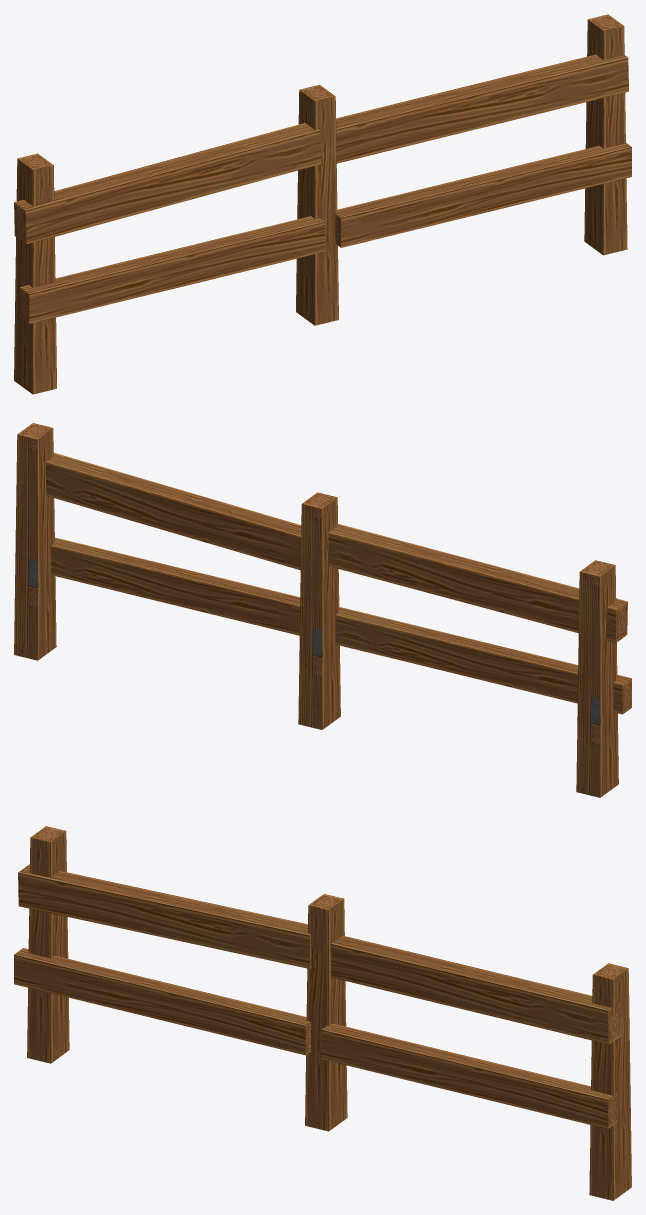
3 views of the same model, one above another, from view 1: azimuth 30°, elevation 25°; view 2: azimuth 150°, elevation 25°; view 3: azimuth 330°, elevation 25° (orthographic).
Visible parts, largest first — view 1: Cube.964; view 2: Cube.964; view 3: Cube.964.
Part boxes in pixels (left/top/right/bottom): Cube.964: left=14, top=14, right=631, bottom=394; Cube.964: left=14, top=423, right=631, bottom=797; Cube.964: left=14, top=826, right=631, bottom=1200.
Bounding box in the file's own units: 373 × 132 × 25.43.
Materials: 1 (1 with a texture image).
